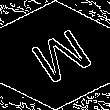M_SE: (17, 21, 93, 89)
